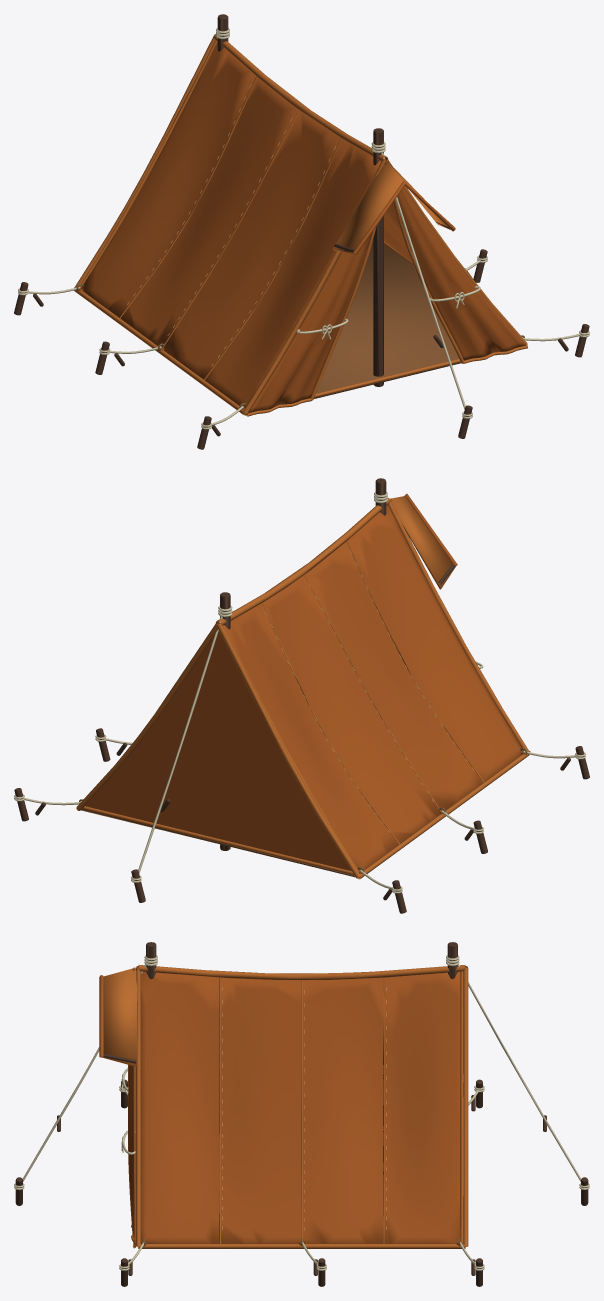
The model's file is grass_hut-6aptJu6y.glb.
The picture shows the model from 3 angles, top to bottom: view 1: azimuth 30°, elevation 25°; view 2: azimuth 150°, elevation 25°; view 3: azimuth 270°, elevation 25°; orthographic projection. The views are drawn at different scales.
Visible parts, largest first — view 1: Left shaped canvas canopy, Left front bound edge, Inset groundsheet, Front support pole, Small entrance rain visor, Front ridge lashing, Visor edge; view 2: Left shaped canvas canopy, Left front bound edge, Front support pole, Front ridge lashing, Small entrance rain visor, Inset groundsheet; view 3: Left shaped canvas canopy, Left front bound edge, Small entrance rain visor, Front support pole, Front ridge lashing.
Boxes of the visible parts, bbox=[...] form: Left shaped canvas canopy: bbox=[80, 42, 525, 414]; Left front bound edge: bbox=[74, 34, 527, 416]; Inset groundsheet: bbox=[243, 240, 460, 415]; Front support pole: bbox=[14, 14, 589, 449]; Small entrance rain visor: bbox=[332, 159, 448, 253]; Front ridge lashing: bbox=[18, 27, 589, 429]; Visor edge: bbox=[353, 181, 455, 254]; Left shaped canvas canopy: bbox=[85, 505, 523, 871]; Left front bound edge: bbox=[76, 498, 530, 879]; Front support pole: bbox=[14, 478, 589, 913]; Front ridge lashing: bbox=[14, 491, 585, 893]; Small entrance rain visor: bbox=[390, 496, 455, 589]; Inset groundsheet: bbox=[81, 809, 360, 877]; Left shaped canvas canopy: bbox=[128, 971, 460, 1246]; Left front bound edge: bbox=[131, 965, 468, 1248]; Small entrance rain visor: bbox=[101, 967, 137, 1066]; Front support pole: bbox=[15, 942, 588, 1286]; Front ridge lashing: bbox=[14, 955, 589, 1270].
Size of the model in its own units: 4.42 by 2.83 by 5.81.
